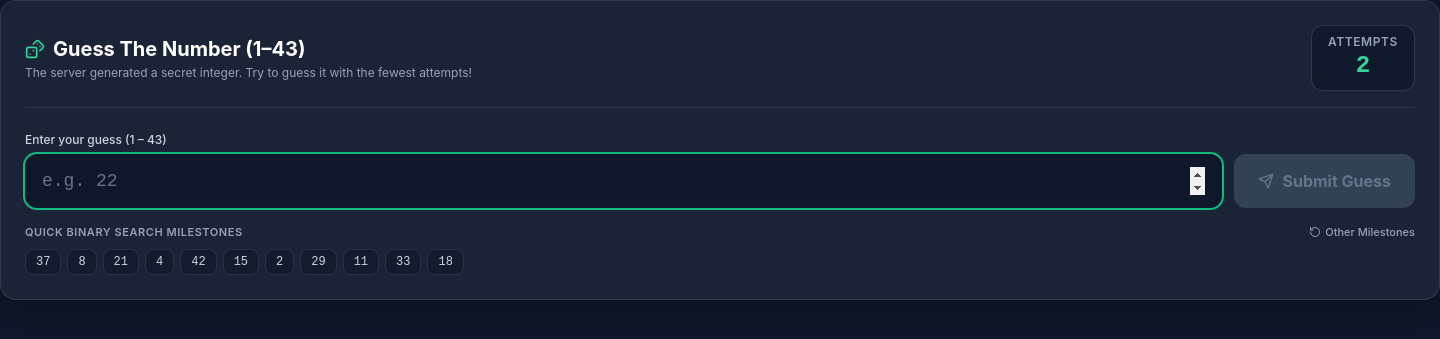
Test case: GameBoard Component › validates bounds: rejects numbers < 1 or > 43
In the number field labelled "Enter your guess (1 – 43)": (624, 181) top-left (25, 154), bottom-right (1222, 208), type "50"
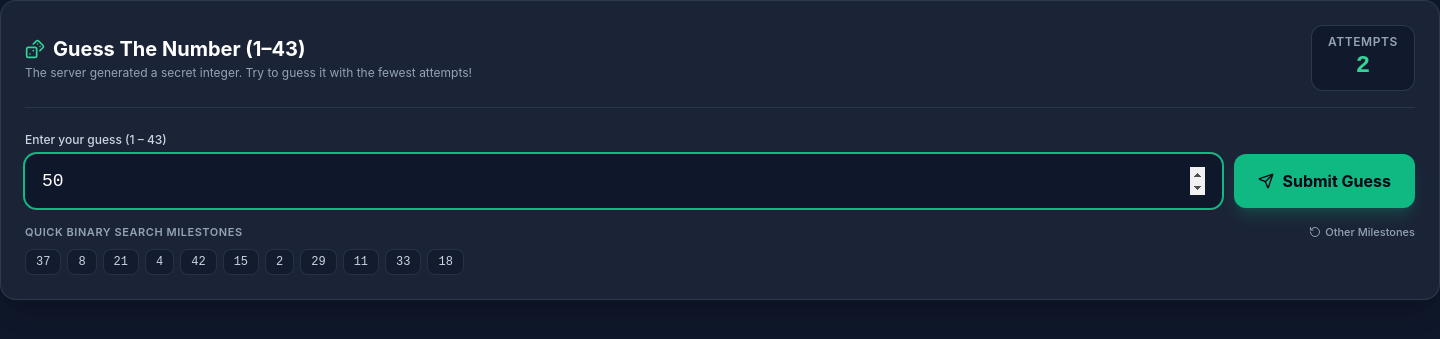
Submit the form with test id "guess-form", box top-left (25, 132), bottom-right (1415, 274)
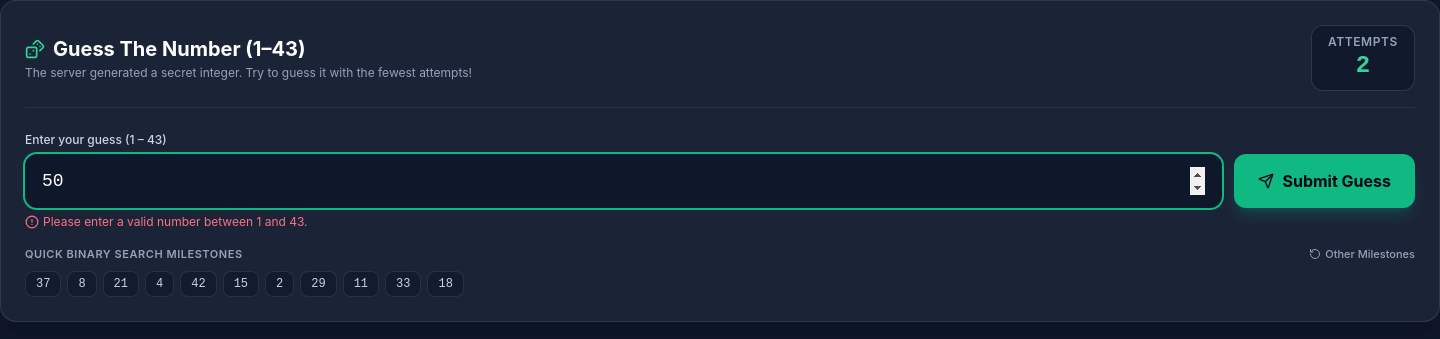
Result: the text "Please enter a valid number between 1 and 43." is shown at top-left (43, 214), bottom-right (308, 230)
